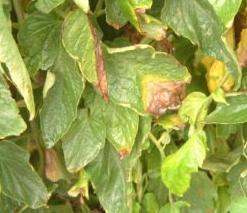Tomato mold leaf: (63, 11, 195, 126), (20, 7, 89, 147), (0, 138, 57, 210), (203, 72, 247, 130)
